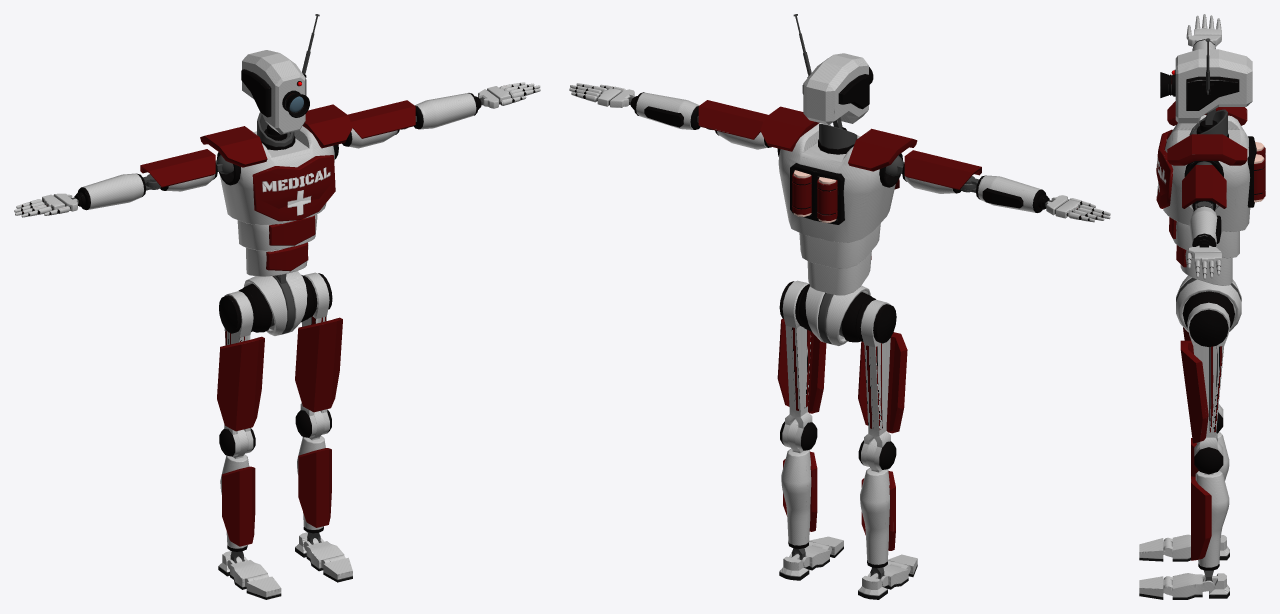
Rendered from RobotPartsAll.fbx.
The picture shows the model from 3 angles, left to right: view 1: azimuth 30°, elevation 25°; view 2: azimuth 150°, elevation 25°; view 3: azimuth 270°, elevation 25°; orthographic projection. The views are drawn at different scales.
Visible parts, largest first — view 1: Torso, RightLeg_Upper, LeftLeg_Upper, RightArm, LeftArm, RightLeg_Lower, LeftLeg_Lower, Head; view 2: Torso, RightLeg_Upper, RightArm, LeftLeg_Upper, LeftArm, LeftLeg_Lower, RightLeg_Lower, Head; view 3: Torso, LeftLeg_Upper, Head, LeftLeg_Lower, LeftArm, RightLeg_Lower, RightArm, RightLeg_Upper.
Boxes of the visible parts, x1,y1,x2,y2 form: Torso: (200,104,352,335); RightLeg_Upper: (217,283,272,456); LeftLeg_Upper: (295,272,342,437); RightArm: (14,149,233,217); LeftArm: (342,82,540,148); RightLeg_Lower: (218,429,281,599); LeftLeg_Lower: (295,411,352,582); Head: (241,14,319,140); Torso: (760,106,917,345); RightLeg_Upper: (841,292,907,469); RightArm: (885,150,1110,222); LeftLeg_Upper: (777,280,826,450); LeftArm: (569,83,771,149); LeftLeg_Lower: (779,419,843,580); RightLeg_Lower: (858,438,917,599); Head: (793,14,873,130); Torso: (1156,101,1265,331); LeftLeg_Upper: (1180,291,1234,474); Head: (1160,38,1252,134); LeftLeg_Lower: (1139,443,1229,599); LeftArm: (1182,161,1226,279); RightLeg_Lower: (1139,406,1229,561); RightArm: (1186,14,1221,50); RightLeg_Upper: (1183,327,1223,433).
Bounding box in the file's own units: 0.0206 × 0.0203 × 0.00418.
